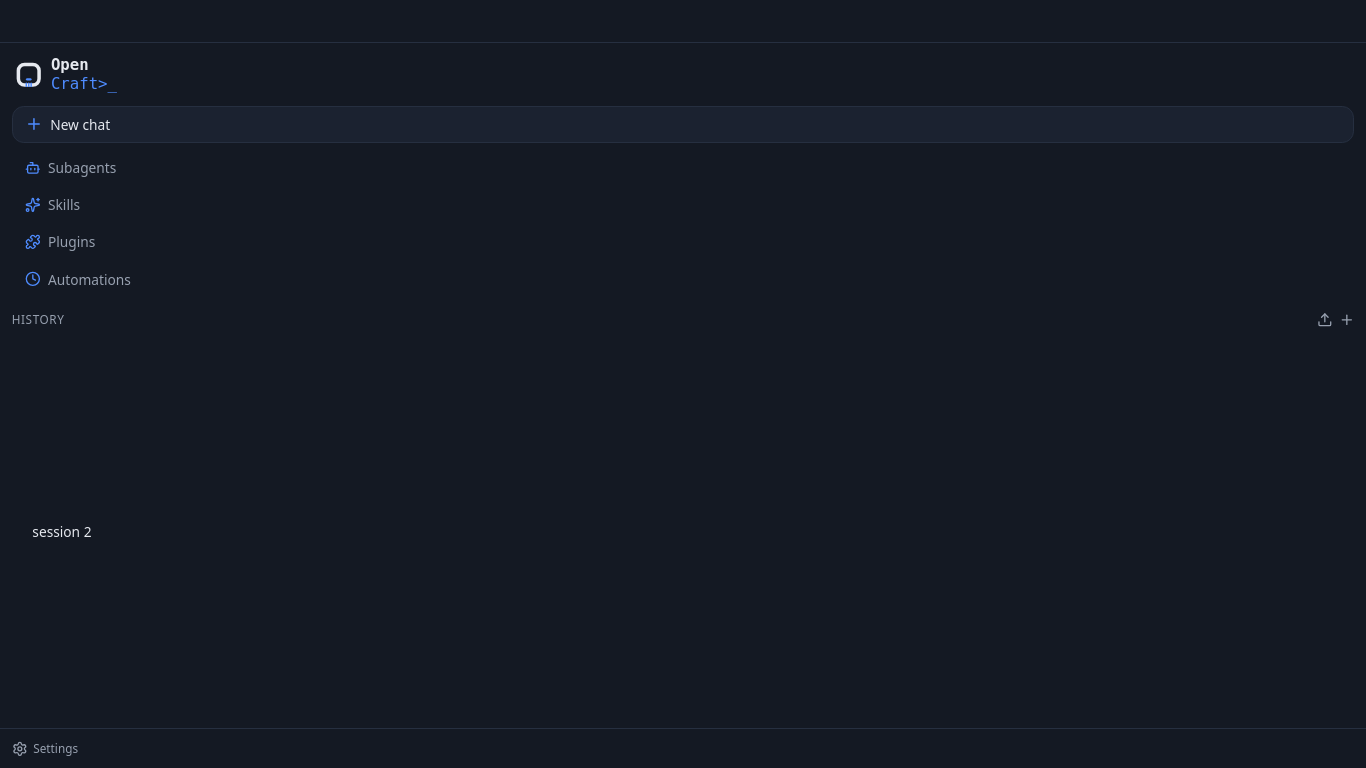
it: Sidebar workspace history › names the row its slot in the hover card, for readers who never hold the key
The image size is (1366, 768).
(page scrolled)
Hover over the element "session 2" at (689, 532), box [24,515,1354,548]
(page scrolled)
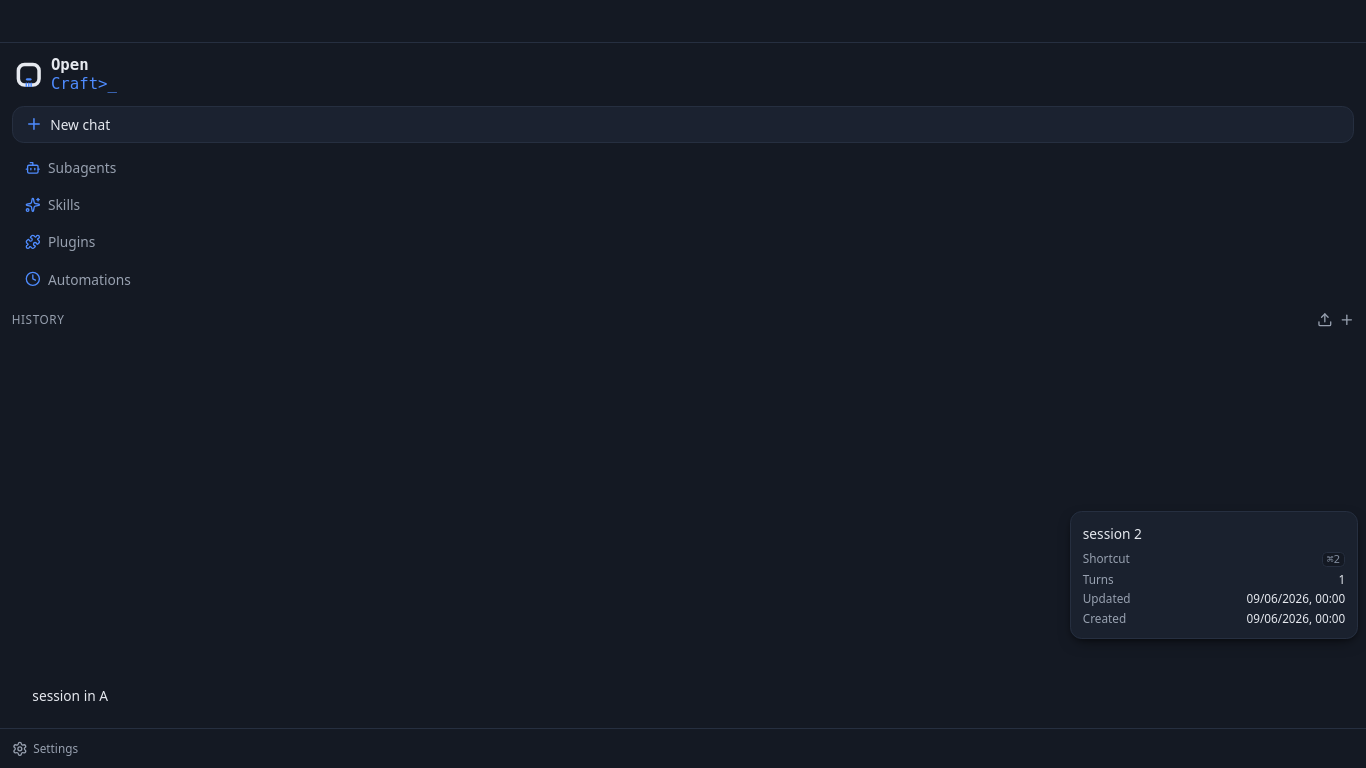
Check: the text "⌘2" is shown, box [1322,552,1345,567]
Hover over the element "session in A" at (689, 696), box [24,679,1354,712]
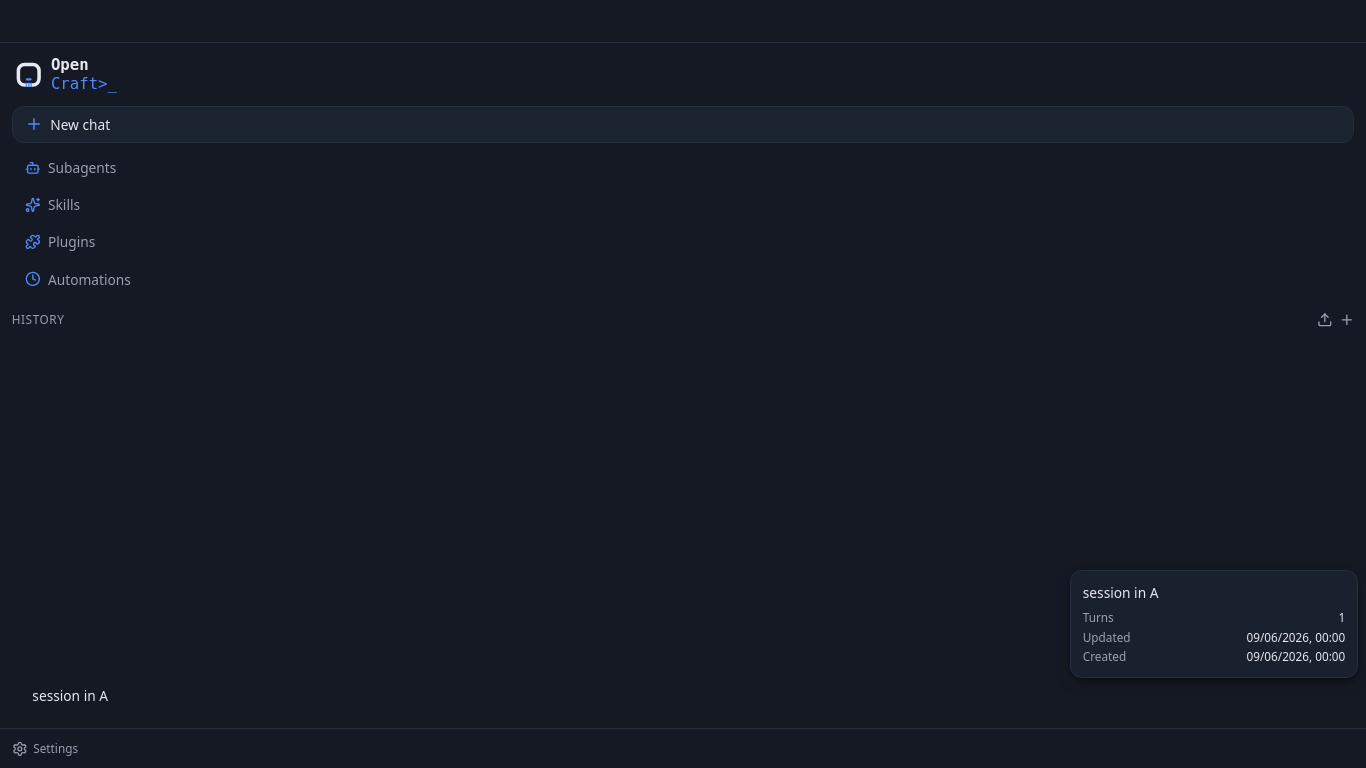
Check: the element with test id "session-hover-card" no longer shows "Shortcut", box [1070,570,1358,678]
